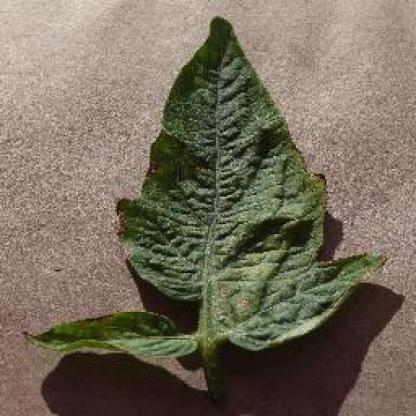Tomato_Spider_Mites: (24, 16, 387, 353)
